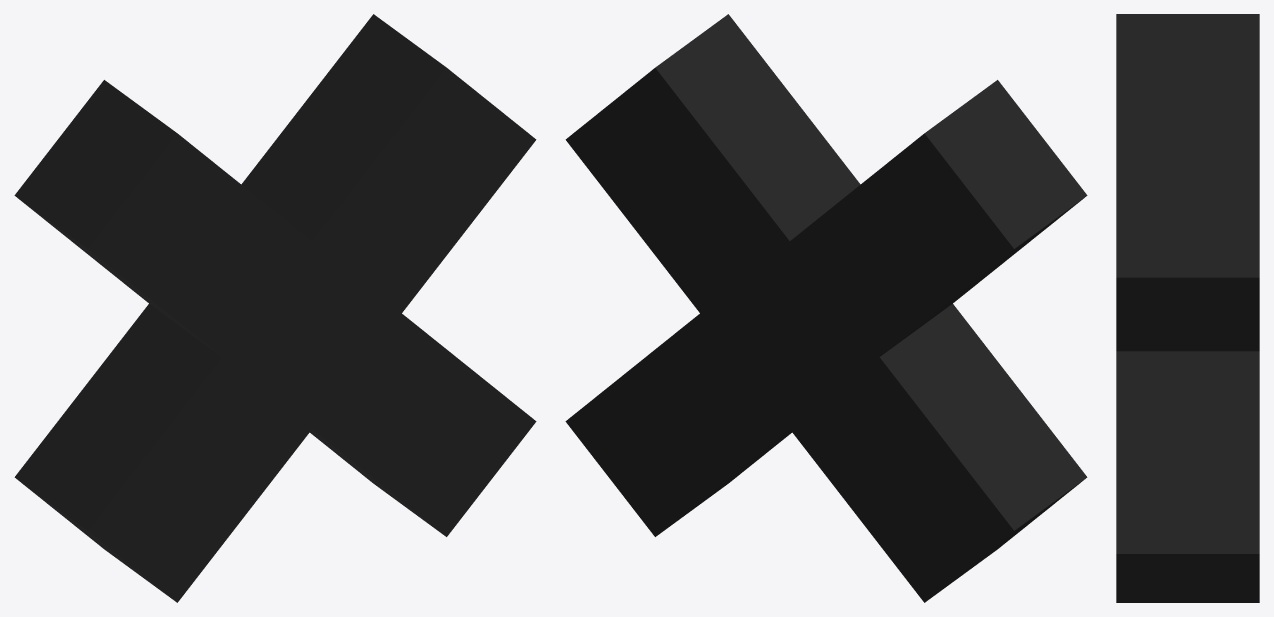
The model's file is multiply.glb.
The picture shows the model from 3 angles, left to right: view 1: azimuth 30°, elevation 25°; view 2: azimuth 150°, elevation 25°; view 3: azimuth 270°, elevation 25°; orthographic projection. The views are drawn at different scales.
Parts seen in each view (by area): view 1: Cube.6436; view 2: Cube.6436; view 3: Cube.6436.
Boxes of the visible parts, x1,y1,x2,y2 form: Cube.6436: (14, 14, 536, 602); Cube.6436: (565, 14, 1087, 602); Cube.6436: (1116, 14, 1259, 602).
Bounding box in the file's own units: 1.91 × 1.91 × 0.54.
Materials: 1 (1 with a texture image).
